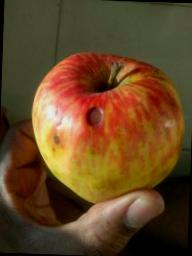Apple Overripe: (14, 43, 192, 216)
